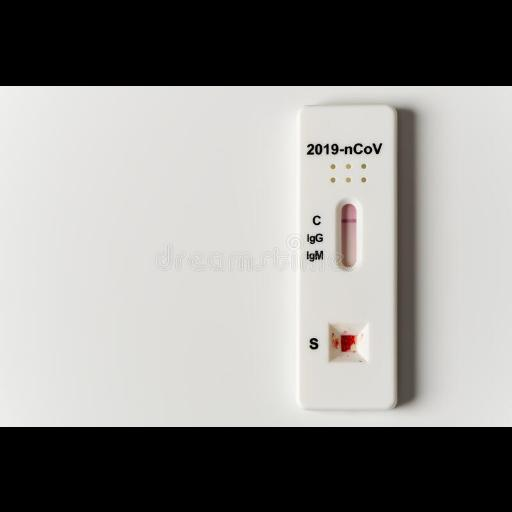Neg: (299, 105, 397, 407)
